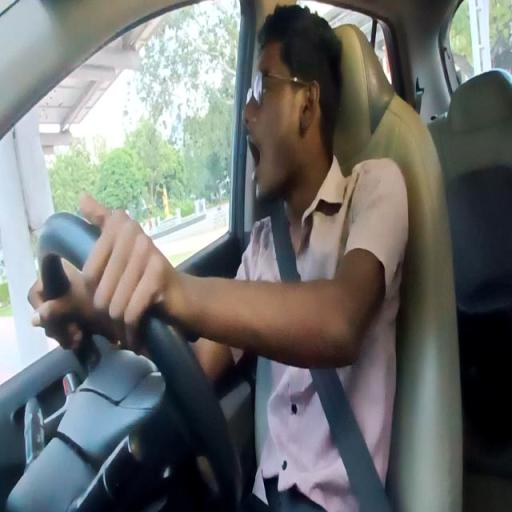yawns: (242, 6, 346, 204)
